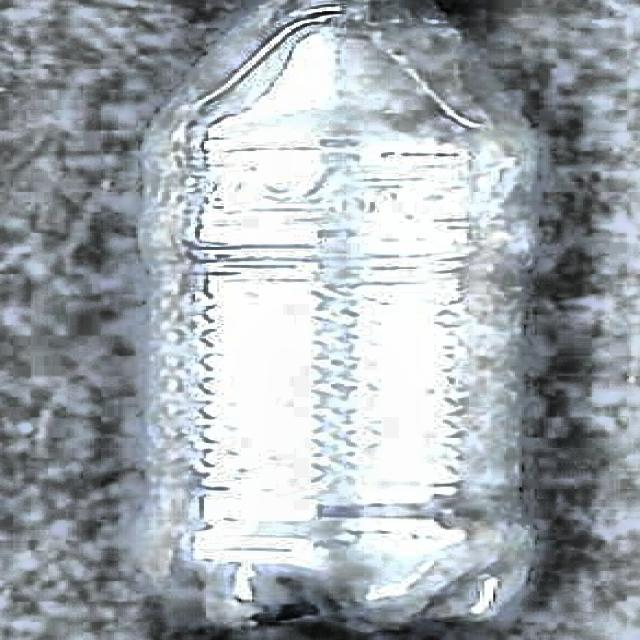plastic: (107, 0, 570, 640)
